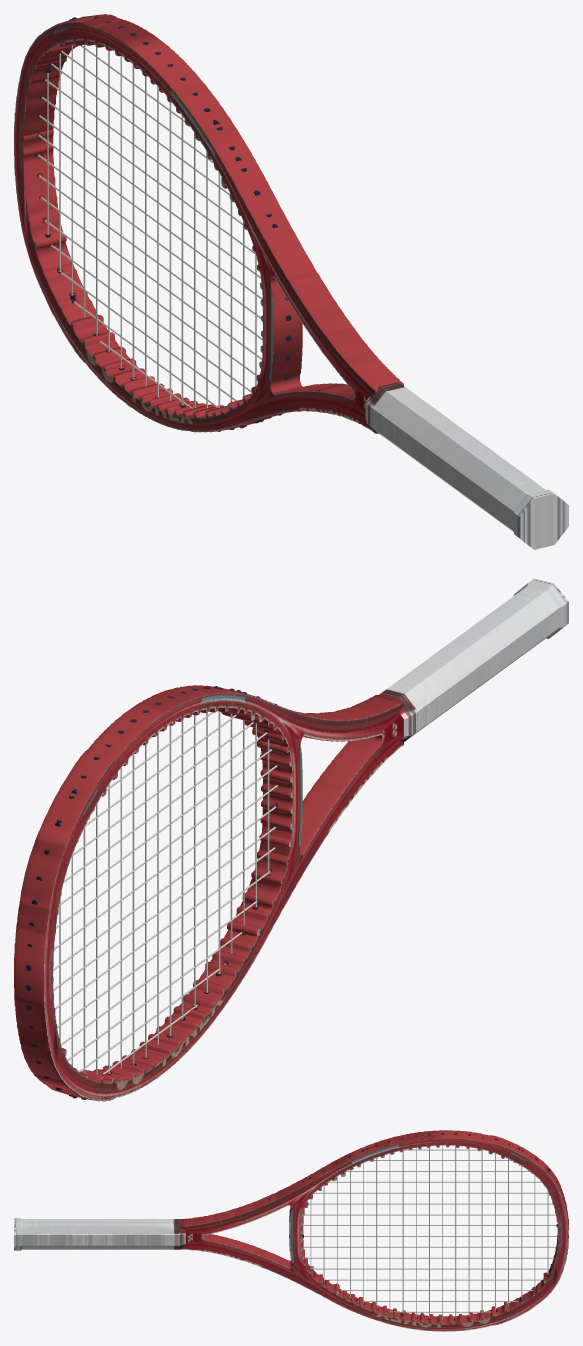
Rendered from vcore.glb.
3 views of the same model, one above another, from view 1: azimuth 30°, elevation 25°; view 2: azimuth 150°, elevation 25°; view 3: azimuth 270°, elevation 25° (orthographic). The views are drawn at different scales.
Visible parts, largest first — view 1: RacketMesh; view 2: RacketMesh; view 3: RacketMesh.
Part boxes in pixels (bbox=[...]): RacketMesh: bbox=[14, 14, 568, 549]; RacketMesh: bbox=[14, 578, 568, 1101]; RacketMesh: bbox=[14, 1130, 568, 1331].
Size of the model in its own units: 0.0377 by 0.2655 by 0.6863.
Materials: 4 (1 with a texture image).
